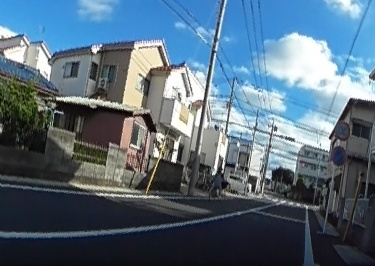person: (211, 168, 223, 197)
